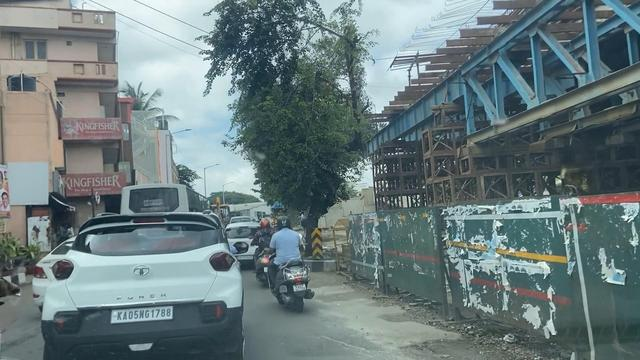LMV: (50, 215, 225, 360), (261, 220, 310, 311)
